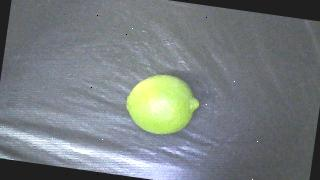LOCAL: (122, 70, 202, 139)
